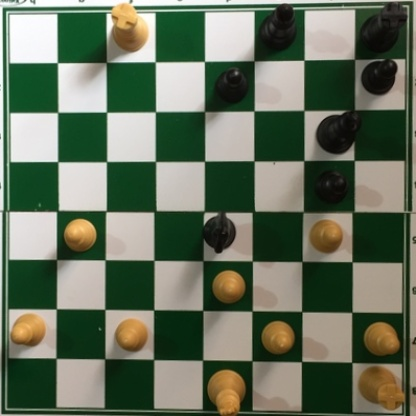black-bishop: (255, 1, 297, 54)
black-king: (312, 110, 361, 156)
black-knight: (200, 207, 236, 254)
black-pawn: (211, 67, 249, 105), (360, 57, 398, 95), (313, 169, 348, 204)
black-rook: (361, 1, 407, 55)
white-king: (200, 366, 247, 416)
white-pawn: (9, 308, 48, 347), (60, 216, 99, 254), (112, 315, 151, 353), (362, 322, 404, 357), (308, 216, 345, 255), (211, 268, 247, 307), (258, 319, 297, 355)
white-rook: (354, 361, 407, 411), (109, 1, 150, 54)
